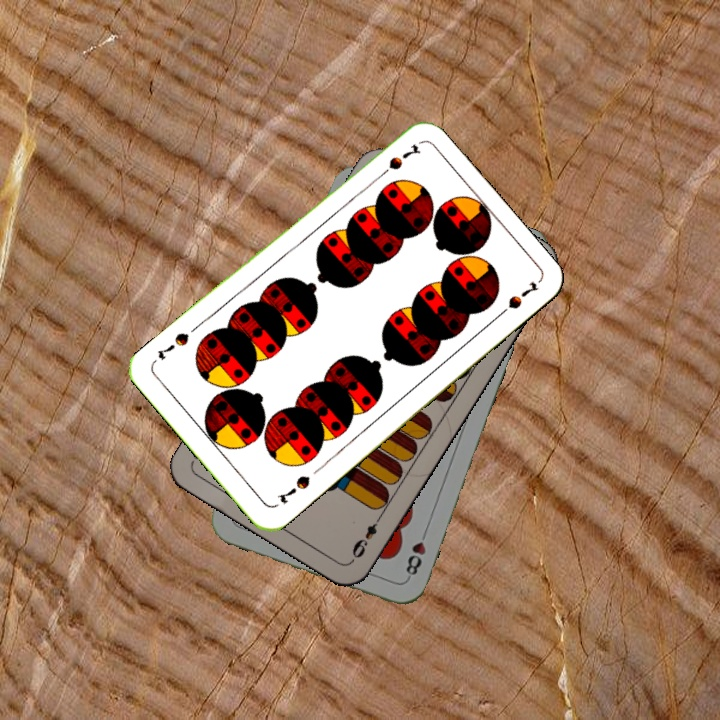E9: (347, 511, 385, 564)
H8: (401, 525, 430, 582)
S7: (373, 139, 423, 182), (272, 471, 313, 507)
